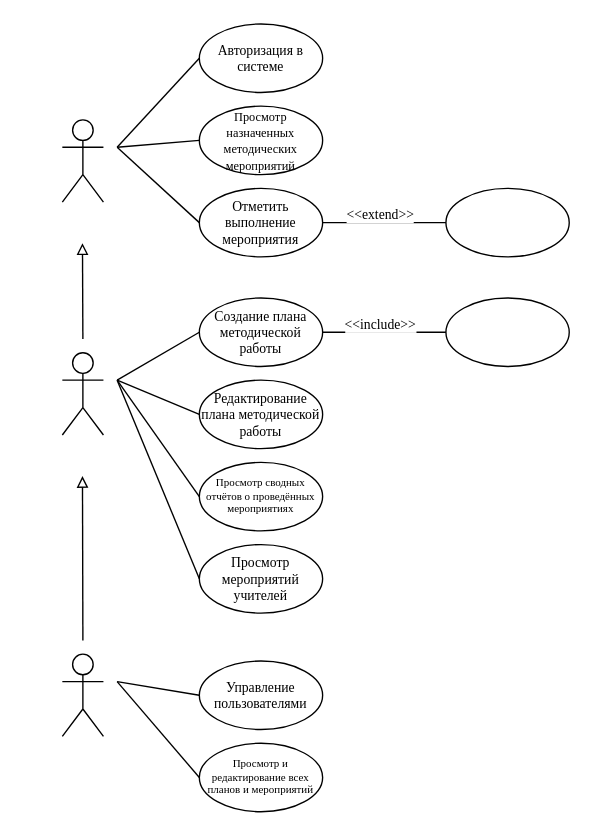
The diagram is 593 pixels wide and 836 high, and some of its shapes have lost their labels. The centre of each missing label's shape, as x and y in pixels:
"Администратор" belongs at [82,694].
"Добавить отчёт о мероприятии" belongs at [507,222].
"Распределение методических задач по учителям" belongs at [507,331].
"Руководитель" belongs at [82,393].
"Учитель" belongs at [82,160].
